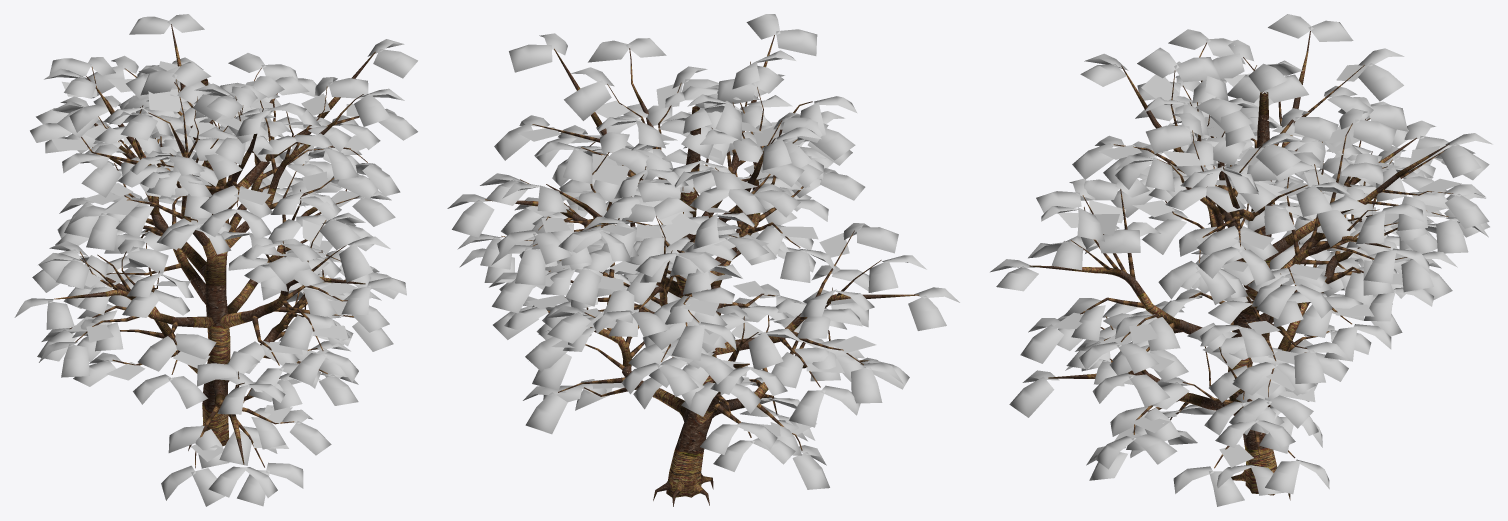
File: Tree_trop_1.fbx
3 renders of one model, left to right at view 1: azimuth 30°, elevation 25°; view 2: azimuth 150°, elevation 25°; view 3: azimuth 270°, elevation 25°, orthographic. The views are drawn at different scales.
Parts seen in each view (by area): view 1: LOD0; view 2: LOD0; view 3: LOD0.
Part boxes in pixels (bbox=[...]): LOD0: bbox=[14, 14, 417, 506]; LOD0: bbox=[447, 14, 959, 506]; LOD0: bbox=[990, 14, 1492, 506].
Size of what is drawn, in the model's own units: 16.04 by 15 by 16.02.
